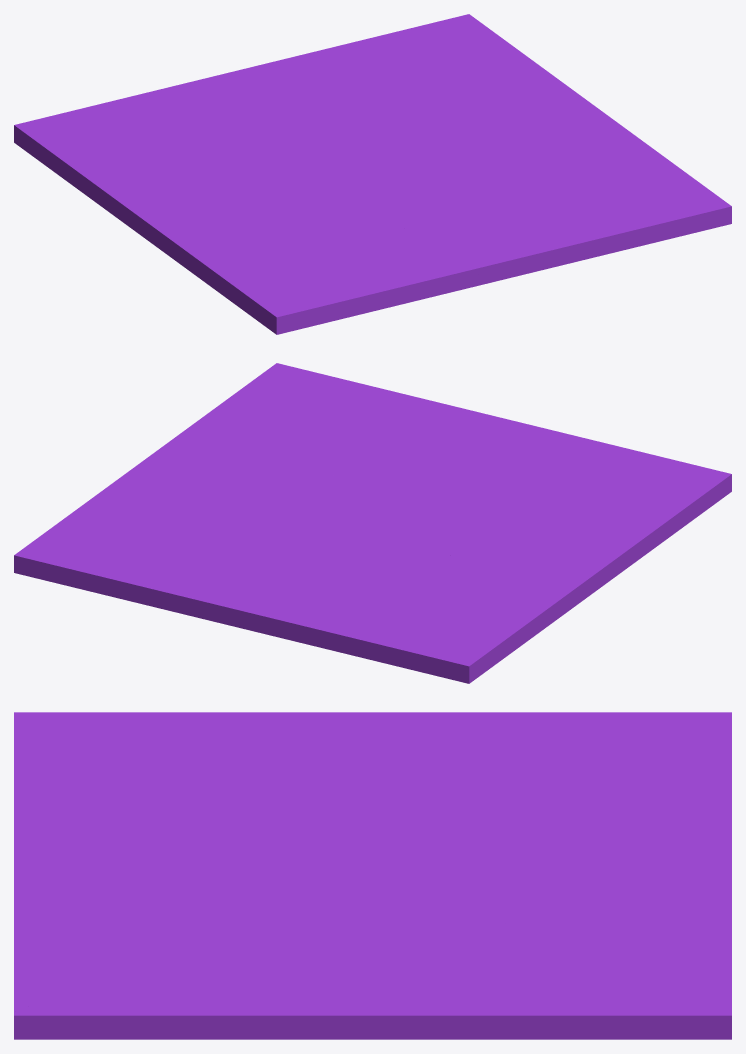
File: Platform_39_chunks.fbx
3 renders of one model, top to bottom at view 1: azimuth 30°, elevation 25°; view 2: azimuth 150°, elevation 25°; view 3: azimuth 270°, elevation 25°, orthographic. The views are drawn at different scales.
Parts seen in each view (by area): view 1: Platform_39_9, Platform_39_10, Platform_39_6, Platform_39_1, Platform_39_4, Platform_39_12, Platform_39_7, Platform_39_11, Platform_39_0, Platform_39_14, Platform_39_3, Platform_39_8 (+3 smaller); view 2: Platform_39_6, Platform_39_1, Platform_39_9, Platform_39_10, Platform_39_4, Platform_39_7, Platform_39_12, Platform_39_11, Platform_39_14, Platform_39_0, Platform_39_3, Platform_39_8 (+3 smaller); view 3: Platform_39_6, Platform_39_4, Platform_39_9, Platform_39_10, Platform_39_1, Platform_39_7, Platform_39_0, Platform_39_12, Platform_39_11, Platform_39_14, Platform_39_3, Platform_39_8 (+4 smaller).
Part boxes in pixels (bbox=[...]): Platform_39_9: bbox=[404, 177, 724, 287]; Platform_39_10: bbox=[207, 227, 482, 334]; Platform_39_6: bbox=[299, 14, 584, 112]; Platform_39_1: bbox=[14, 71, 307, 156]; Platform_39_4: bbox=[375, 106, 663, 167]; Platform_39_12: bbox=[17, 127, 202, 227]; Platform_39_7: bbox=[234, 55, 424, 165]; Platform_39_11: bbox=[328, 165, 515, 228]; Platform_39_0: bbox=[450, 157, 731, 236]; Platform_39_14: bbox=[131, 197, 268, 286]; Platform_39_3: bbox=[232, 123, 367, 176]; Platform_39_8: bbox=[206, 190, 378, 289]; Platform_39_6: bbox=[14, 470, 238, 612]; Platform_39_1: bbox=[243, 559, 476, 683]; Platform_39_9: bbox=[283, 364, 525, 471]; Platform_39_10: bbox=[486, 424, 731, 536]; Platform_39_4: bbox=[142, 412, 370, 521]; Platform_39_7: bbox=[178, 514, 373, 628]; Platform_39_12: bbox=[432, 565, 587, 677]; Platform_39_11: bbox=[325, 456, 494, 518]; Platform_39_14: bbox=[519, 522, 666, 597]; Platform_39_0: bbox=[209, 363, 337, 485]; Platform_39_3: bbox=[319, 516, 451, 570]; Platform_39_8: bbox=[446, 482, 669, 538]; Platform_39_6: bbox=[414, 902, 731, 1039]; Platform_39_4: bbox=[199, 865, 484, 1039]; Platform_39_9: bbox=[14, 836, 242, 1011]; Platform_39_10: bbox=[14, 712, 204, 849]; Platform_39_1: bbox=[494, 712, 731, 860]; Platform_39_7: bbox=[373, 859, 731, 925]; Platform_39_0: bbox=[14, 901, 315, 1039]; Platform_39_12: bbox=[407, 712, 722, 787]; Platform_39_11: bbox=[176, 825, 377, 927]; Platform_39_14: bbox=[206, 712, 407, 778]; Platform_39_3: bbox=[358, 797, 535, 861]; Platform_39_8: bbox=[197, 712, 334, 825].
Size of the model in its own units: 810 by 29.87 by 810.
